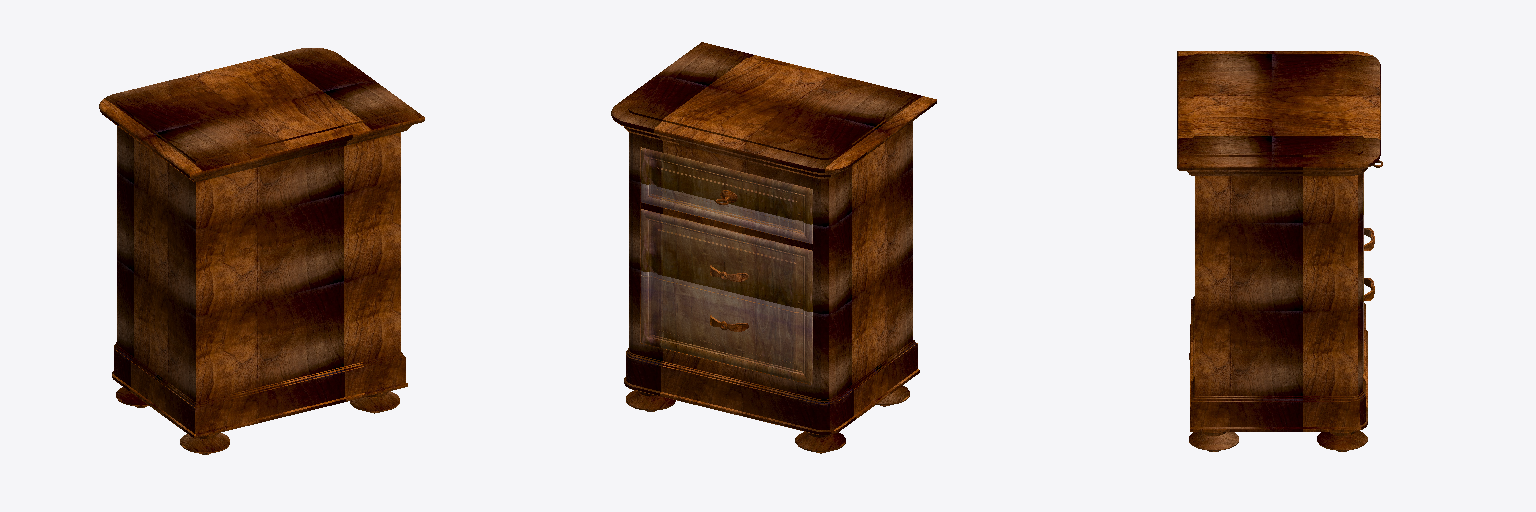
3 renders of one model, left to right at view 1: azimuth 30°, elevation 25°; view 2: azimuth 150°, elevation 25°; view 3: azimuth 270°, elevation 25°, orthographic.
Visible parts, largest first — view 1: Cylinder004; view 2: Cylinder004, Box016, Box017, Line010; view 3: Cylinder004.
Part boxes in pixels (x1,y1,x2,y2): Cylinder004: (99, 48, 424, 454); Cylinder004: (611, 42, 936, 453); Box016: (641, 209, 812, 384); Box017: (641, 147, 812, 243); Line010: (710, 190, 748, 331); Cylinder004: (1177, 51, 1380, 451).
Size of the model in its own units: 0.6248 by 0.7663 by 0.4726.
Materials: 2 (2 with a texture image).